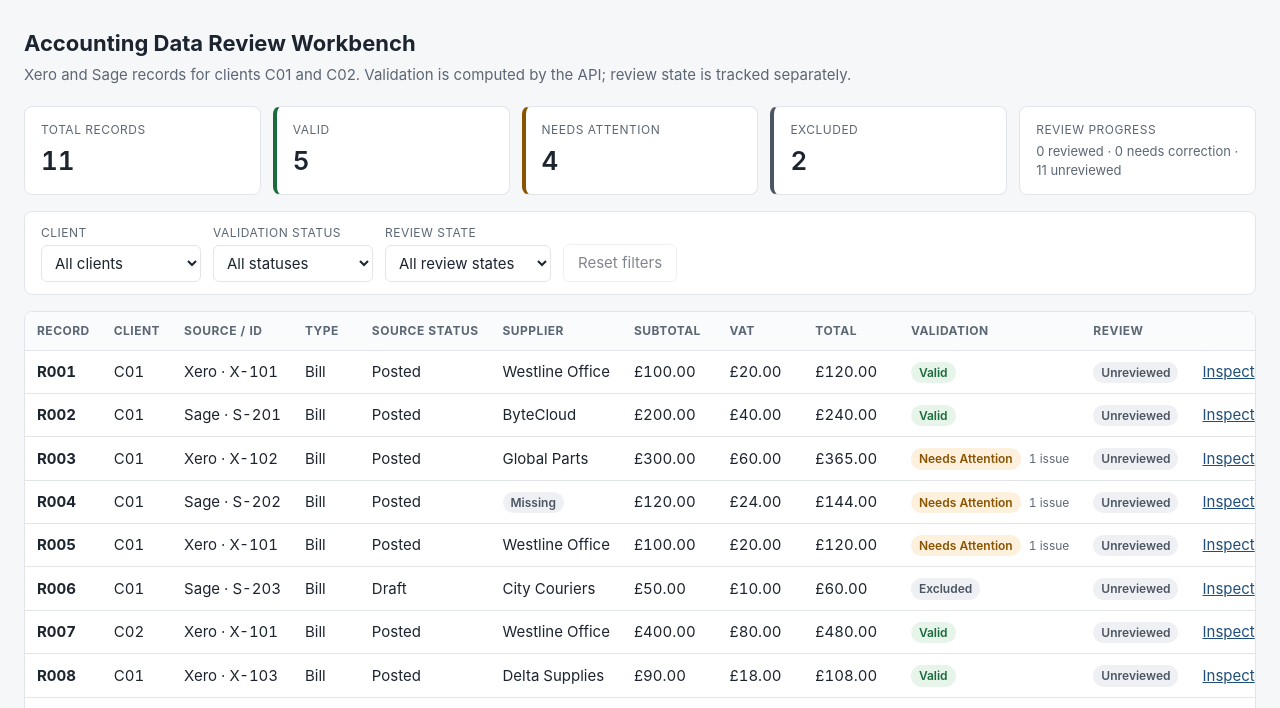
Test: Review workbench › blocks every review action on an excluded record
expect the row with test id "row-R001" is shown: met, box left=25, top=350, right=1256, bottom=393
Click the button "Inspect" in the row of "R006".
click(1229, 589)  # box left=1202, top=578, right=1255, bottom=600
(page scrolled)
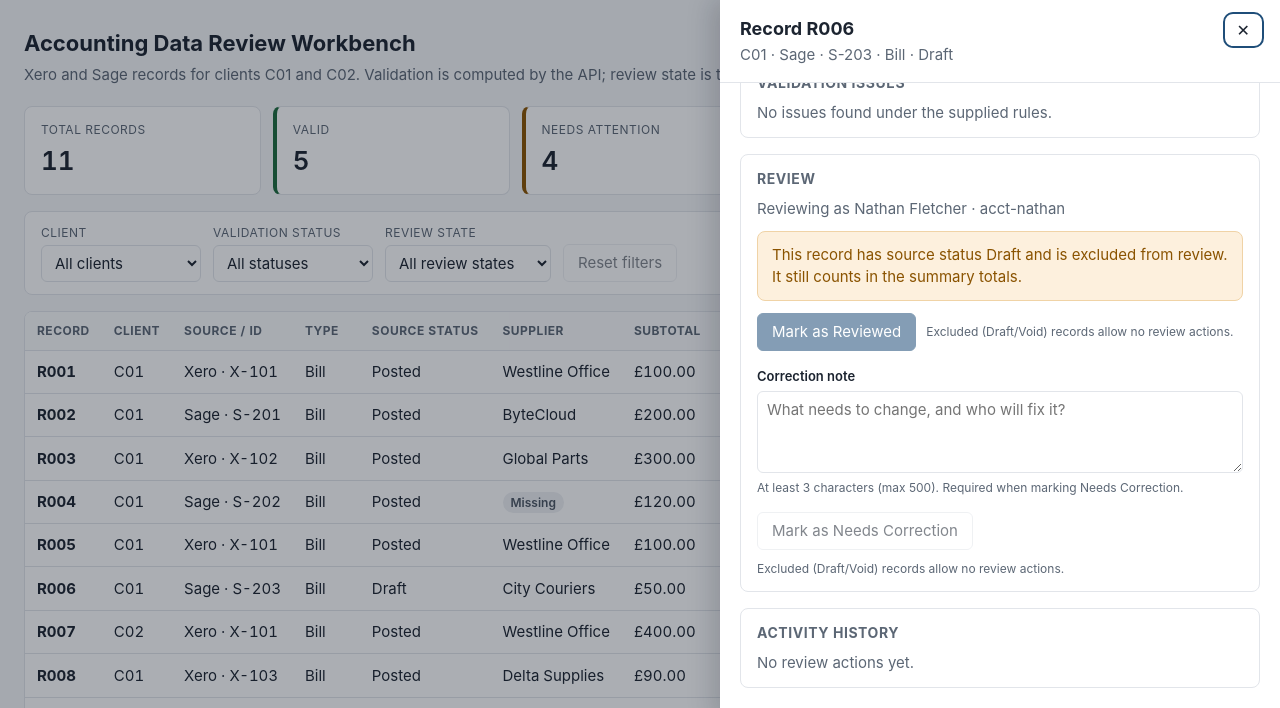
expect the text with test id "excluded-notice" shows "This record has source status Draft and is excluded from review.": met, box left=757, top=231, right=1243, bottom=301
expect the button with test id "mark-reviewed" is disabled: met, box left=757, top=313, right=916, bottom=351
expect the button with test id "mark-needs-correction" is disabled: met, box left=757, top=512, right=973, bottom=550
